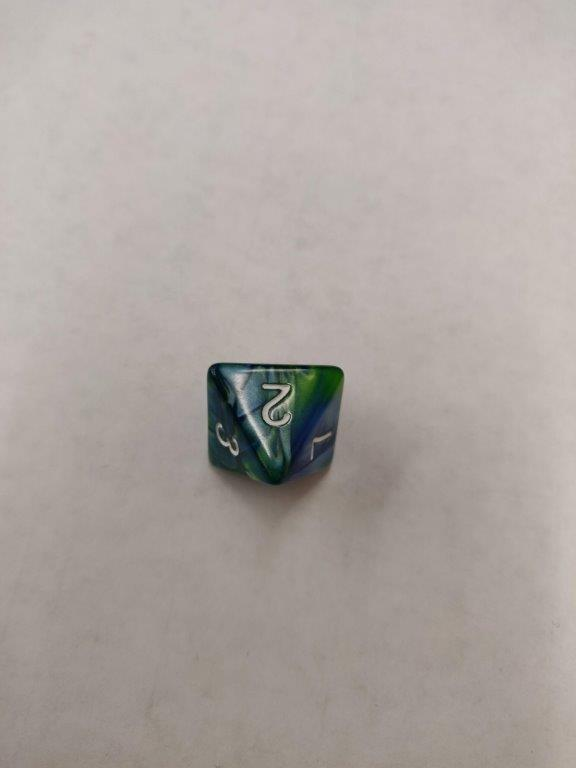d8-2: (205, 362, 346, 481)
